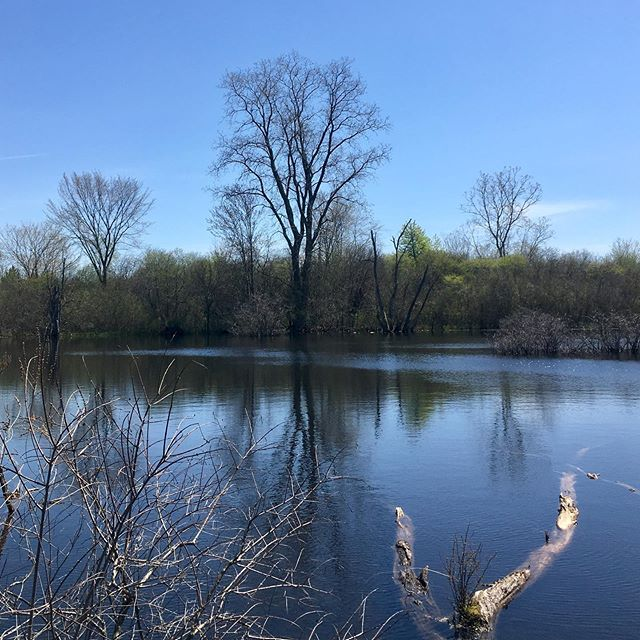river: (1, 332, 634, 640)
sky: (1, 1, 631, 241)
tree: (211, 63, 391, 330), (41, 164, 146, 269), (461, 166, 547, 249)
vegetation: (1, 258, 636, 326)
